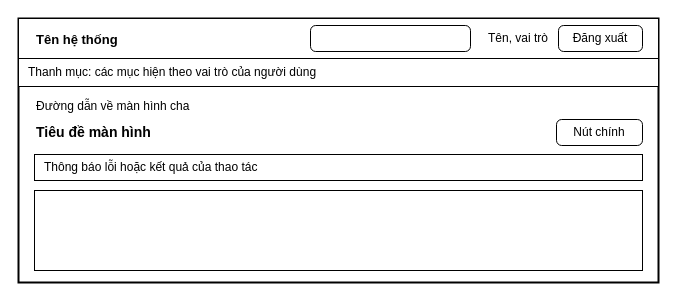
Image size: 676x300. Some labels were removed from this diagram. Here are the shapes that lost their labels. From the top down, the centre of each, then its label:
At (x=390, y=38): "Thông báo (số chưa đọc)".
At (x=338, y=230): "Nội dung riêng của từng màn hình".
